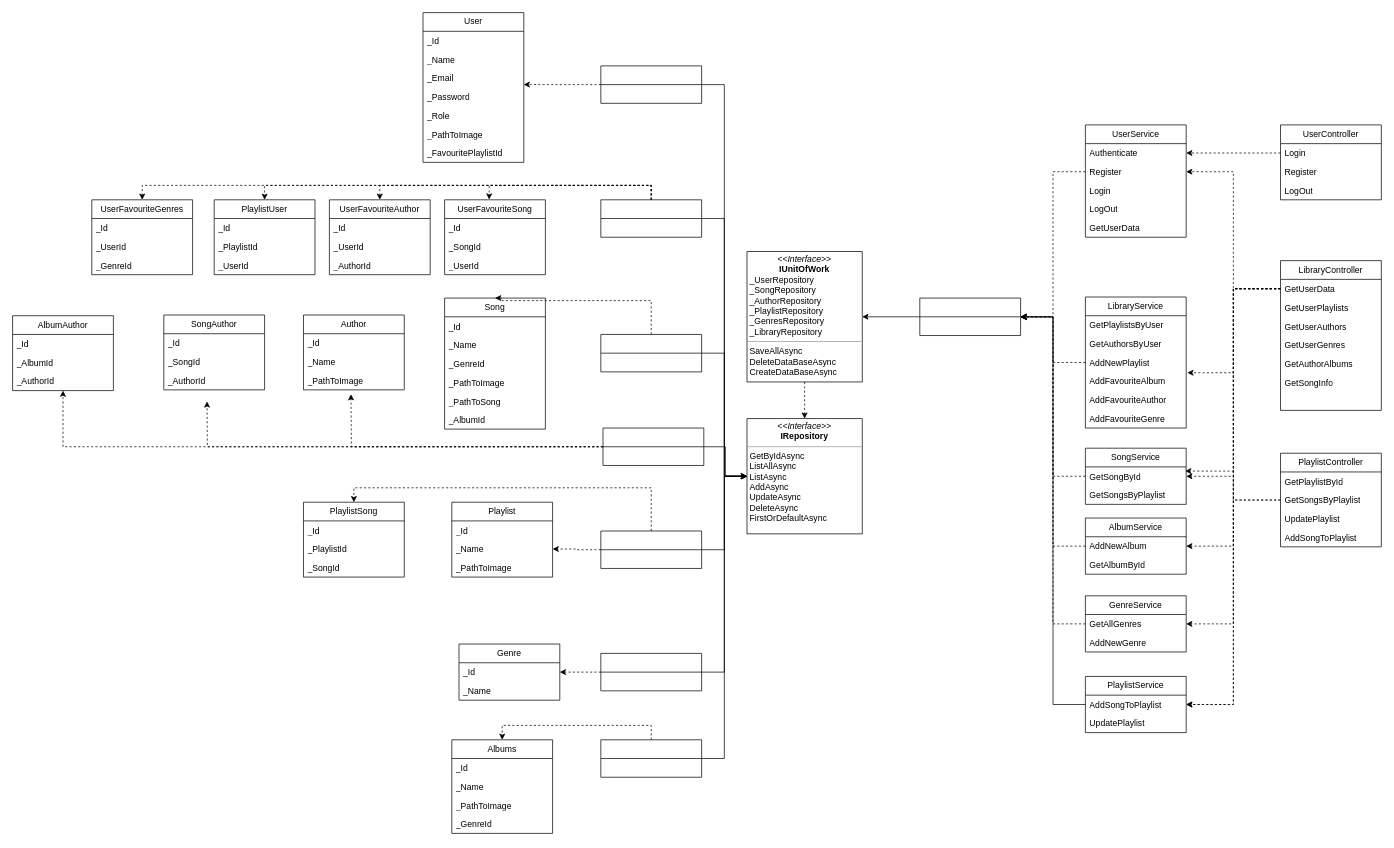
The diagram is 1394 pixels wide and 848 high, and some of its shapes have lost their labels. Each missing label, with the centre of its shape:
"AlbumsRepository" belongs at pixel 651 758.
"AuthorRepository" belongs at pixel 653 446.
"GenresRepository" belongs at pixel 651 672.
"LibraryRepository" belongs at pixel 651 218.
"PlaylistRepository" belongs at pixel 651 549.
"SongRepository" belongs at pixel 651 353.
"UnitOfWork" belongs at pixel 970 316.
"UserRepository" belongs at pixel 651 84.
